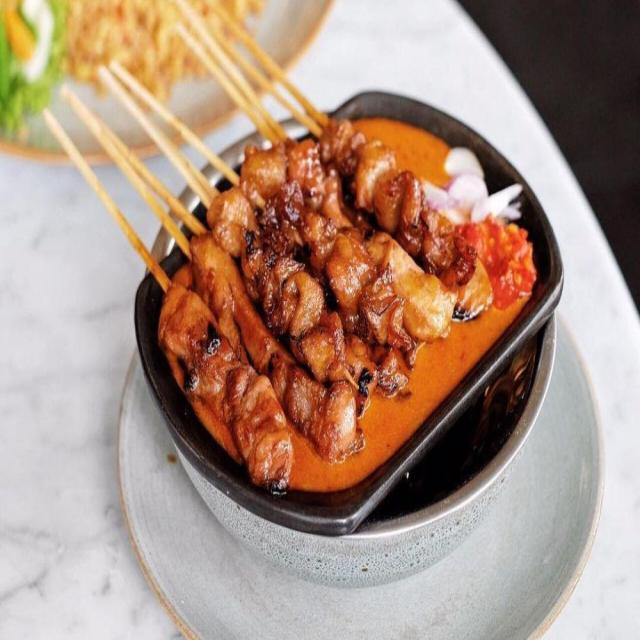Sate: (84, 57, 469, 450)
